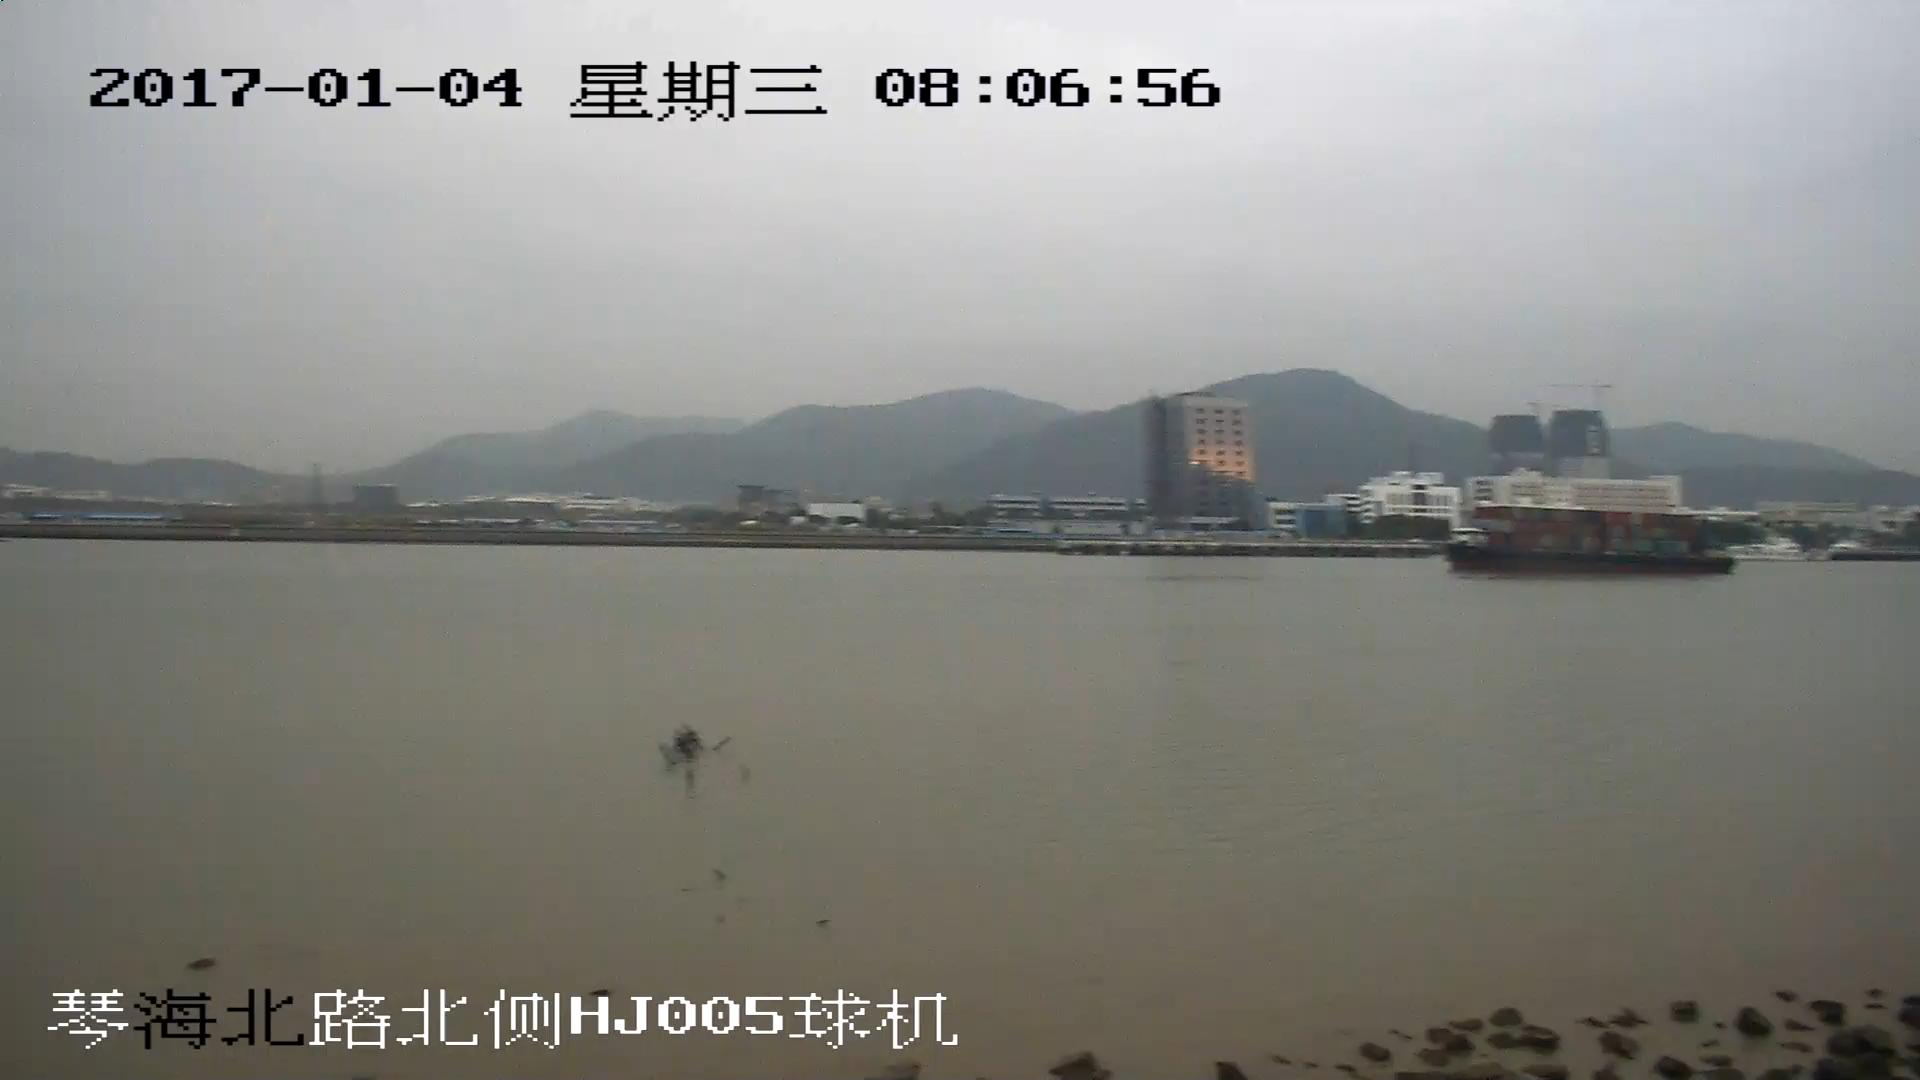container ship: (1440, 503, 1735, 577)
